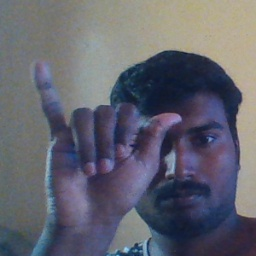J: (26, 58, 182, 222)
